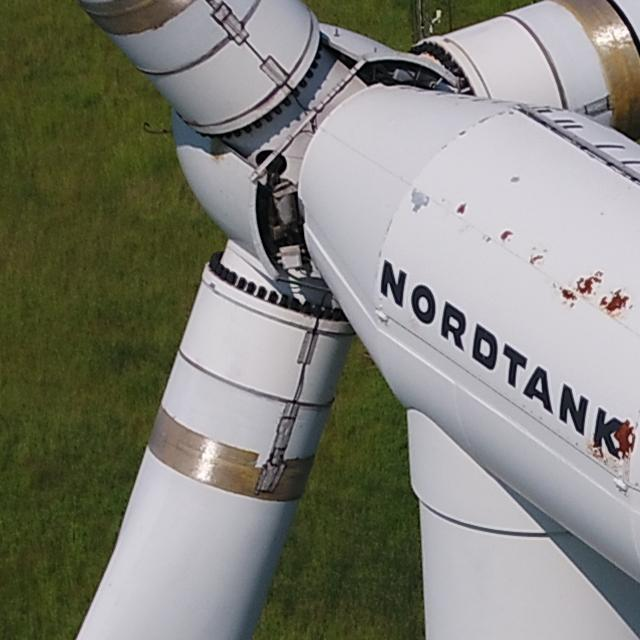damage: (600, 288, 631, 319), (574, 271, 608, 294), (407, 184, 432, 215), (556, 285, 577, 308), (527, 253, 546, 267), (499, 228, 514, 243), (454, 200, 468, 216), (507, 173, 522, 184)
